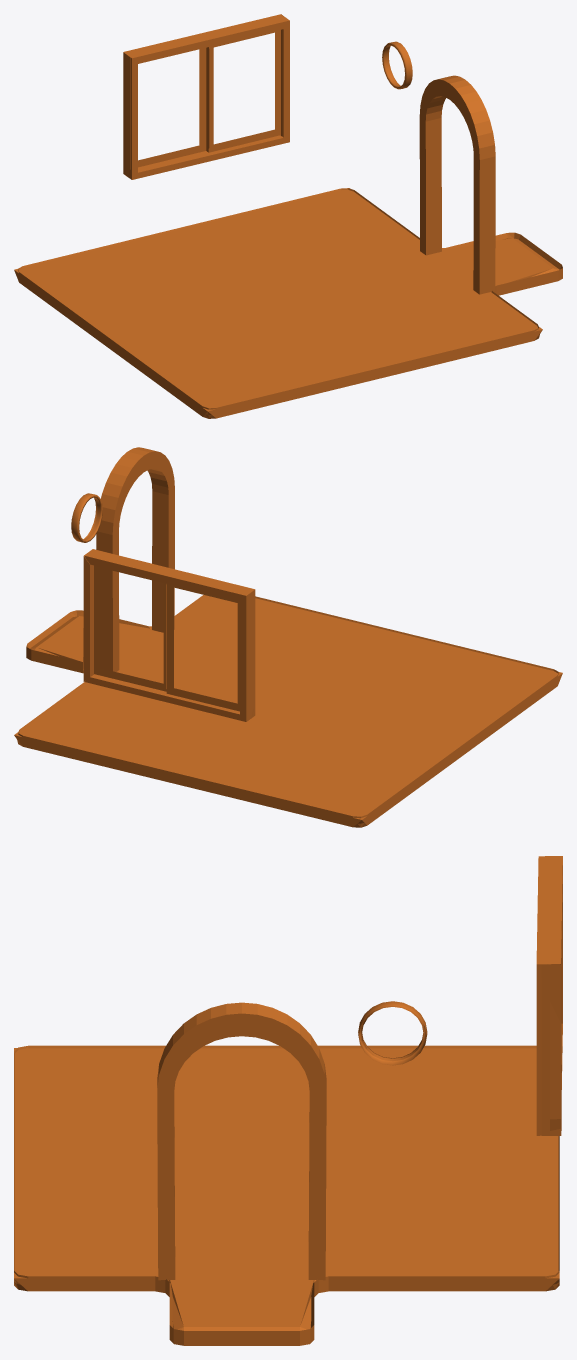
File: room_escape_new_wooden.obj
The picture shows the model from 3 angles, top to bottom: view 1: azimuth 30°, elevation 25°; view 2: azimuth 150°, elevation 25°; view 3: azimuth 270°, elevation 25°; orthographic projection. The views are drawn at different scales.
Parts seen in each view (by area): view 1: Grid_wooden, 立方体.012_wooden, 立方体.001_wooden, Cube_wooden, 柱体.003_wooden; view 2: Grid_wooden, 立方体.012_wooden, 立方体.001_wooden, Cube_wooden, 柱体.003_wooden; view 3: Grid_wooden, 立方体.012_wooden, 立方体.001_wooden, 柱体.003_wooden.
Boxes of the visible parts, x1,y1,x2,y2 form: Grid_wooden: (14,188,562,418); 立方体.012_wooden: (419,75,495,294); 立方体.001_wooden: (123,14,289,179); Cube_wooden: (138,30,280,167); 柱体.003_wooden: (382,41,412,89); Grid_wooden: (14,595,562,827); 立方体.012_wooden: (96,447,174,671); 立方体.001_wooden: (83,549,255,721); Cube_wooden: (94,565,239,711); 柱体.003_wooden: (71,493,102,542); Grid_wooden: (14,1045,559,1345); 立方体.012_wooden: (157,1002,326,1280); 立方体.001_wooden: (536,856,562,1135); 柱体.003_wooden: (358,1001,427,1065).
Bounding box in the file's own units: 8.93 × 4.1 × 7.26.
